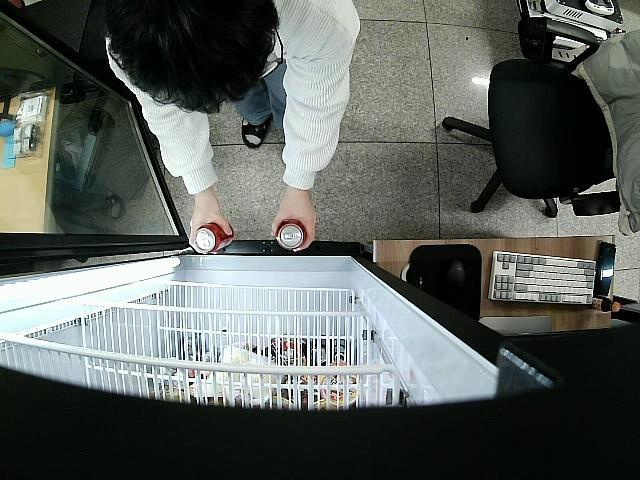11_cocaColaZero: (194, 222, 234, 254), (274, 218, 306, 250)
